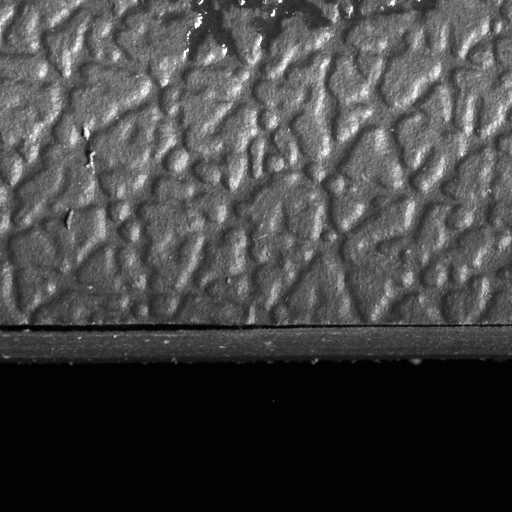jiaofeng: (0, 321, 510, 344)
